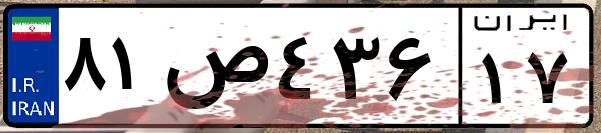1: (475, 38, 525, 113), (110, 28, 158, 98)
3: (330, 28, 385, 110)
4: (270, 28, 330, 110)
6: (385, 28, 445, 110)
7: (525, 38, 570, 115)
8: (57, 26, 110, 100)
ص: (158, 20, 270, 120)
